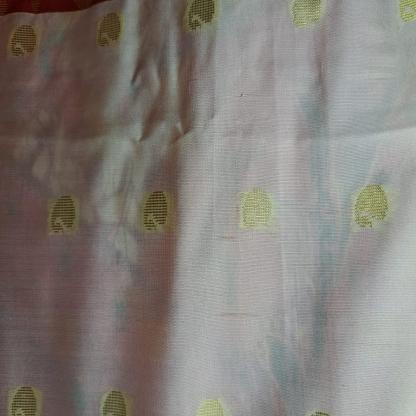spot: (213, 228, 240, 243)
